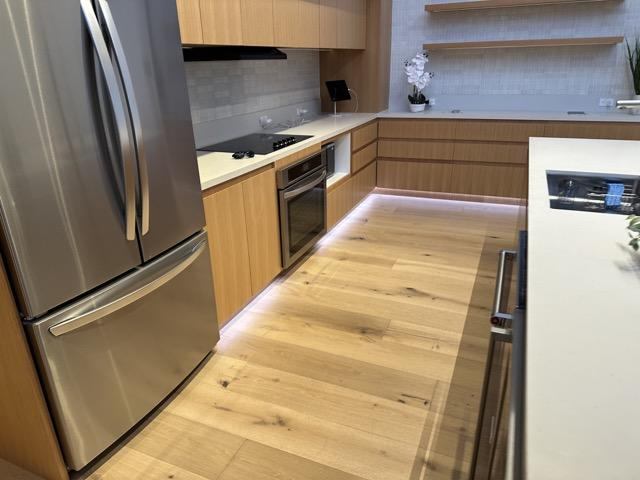Sunglasses: (231, 149, 256, 161)
